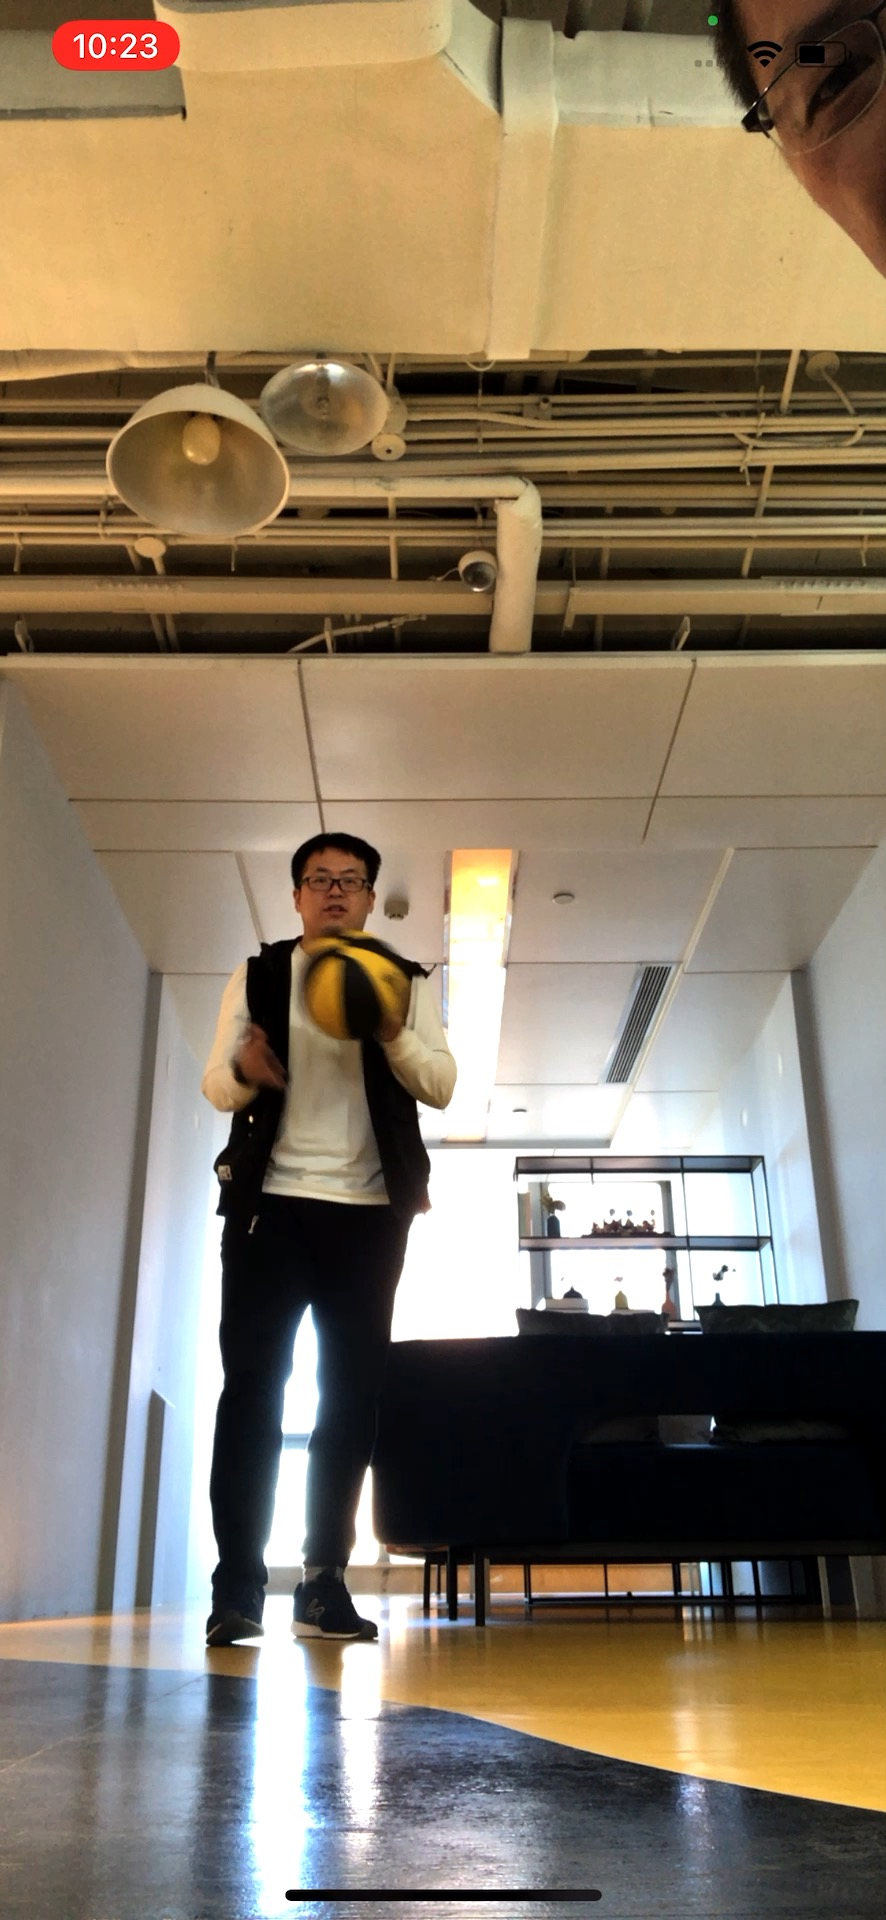ball: (302, 933, 416, 1040)
